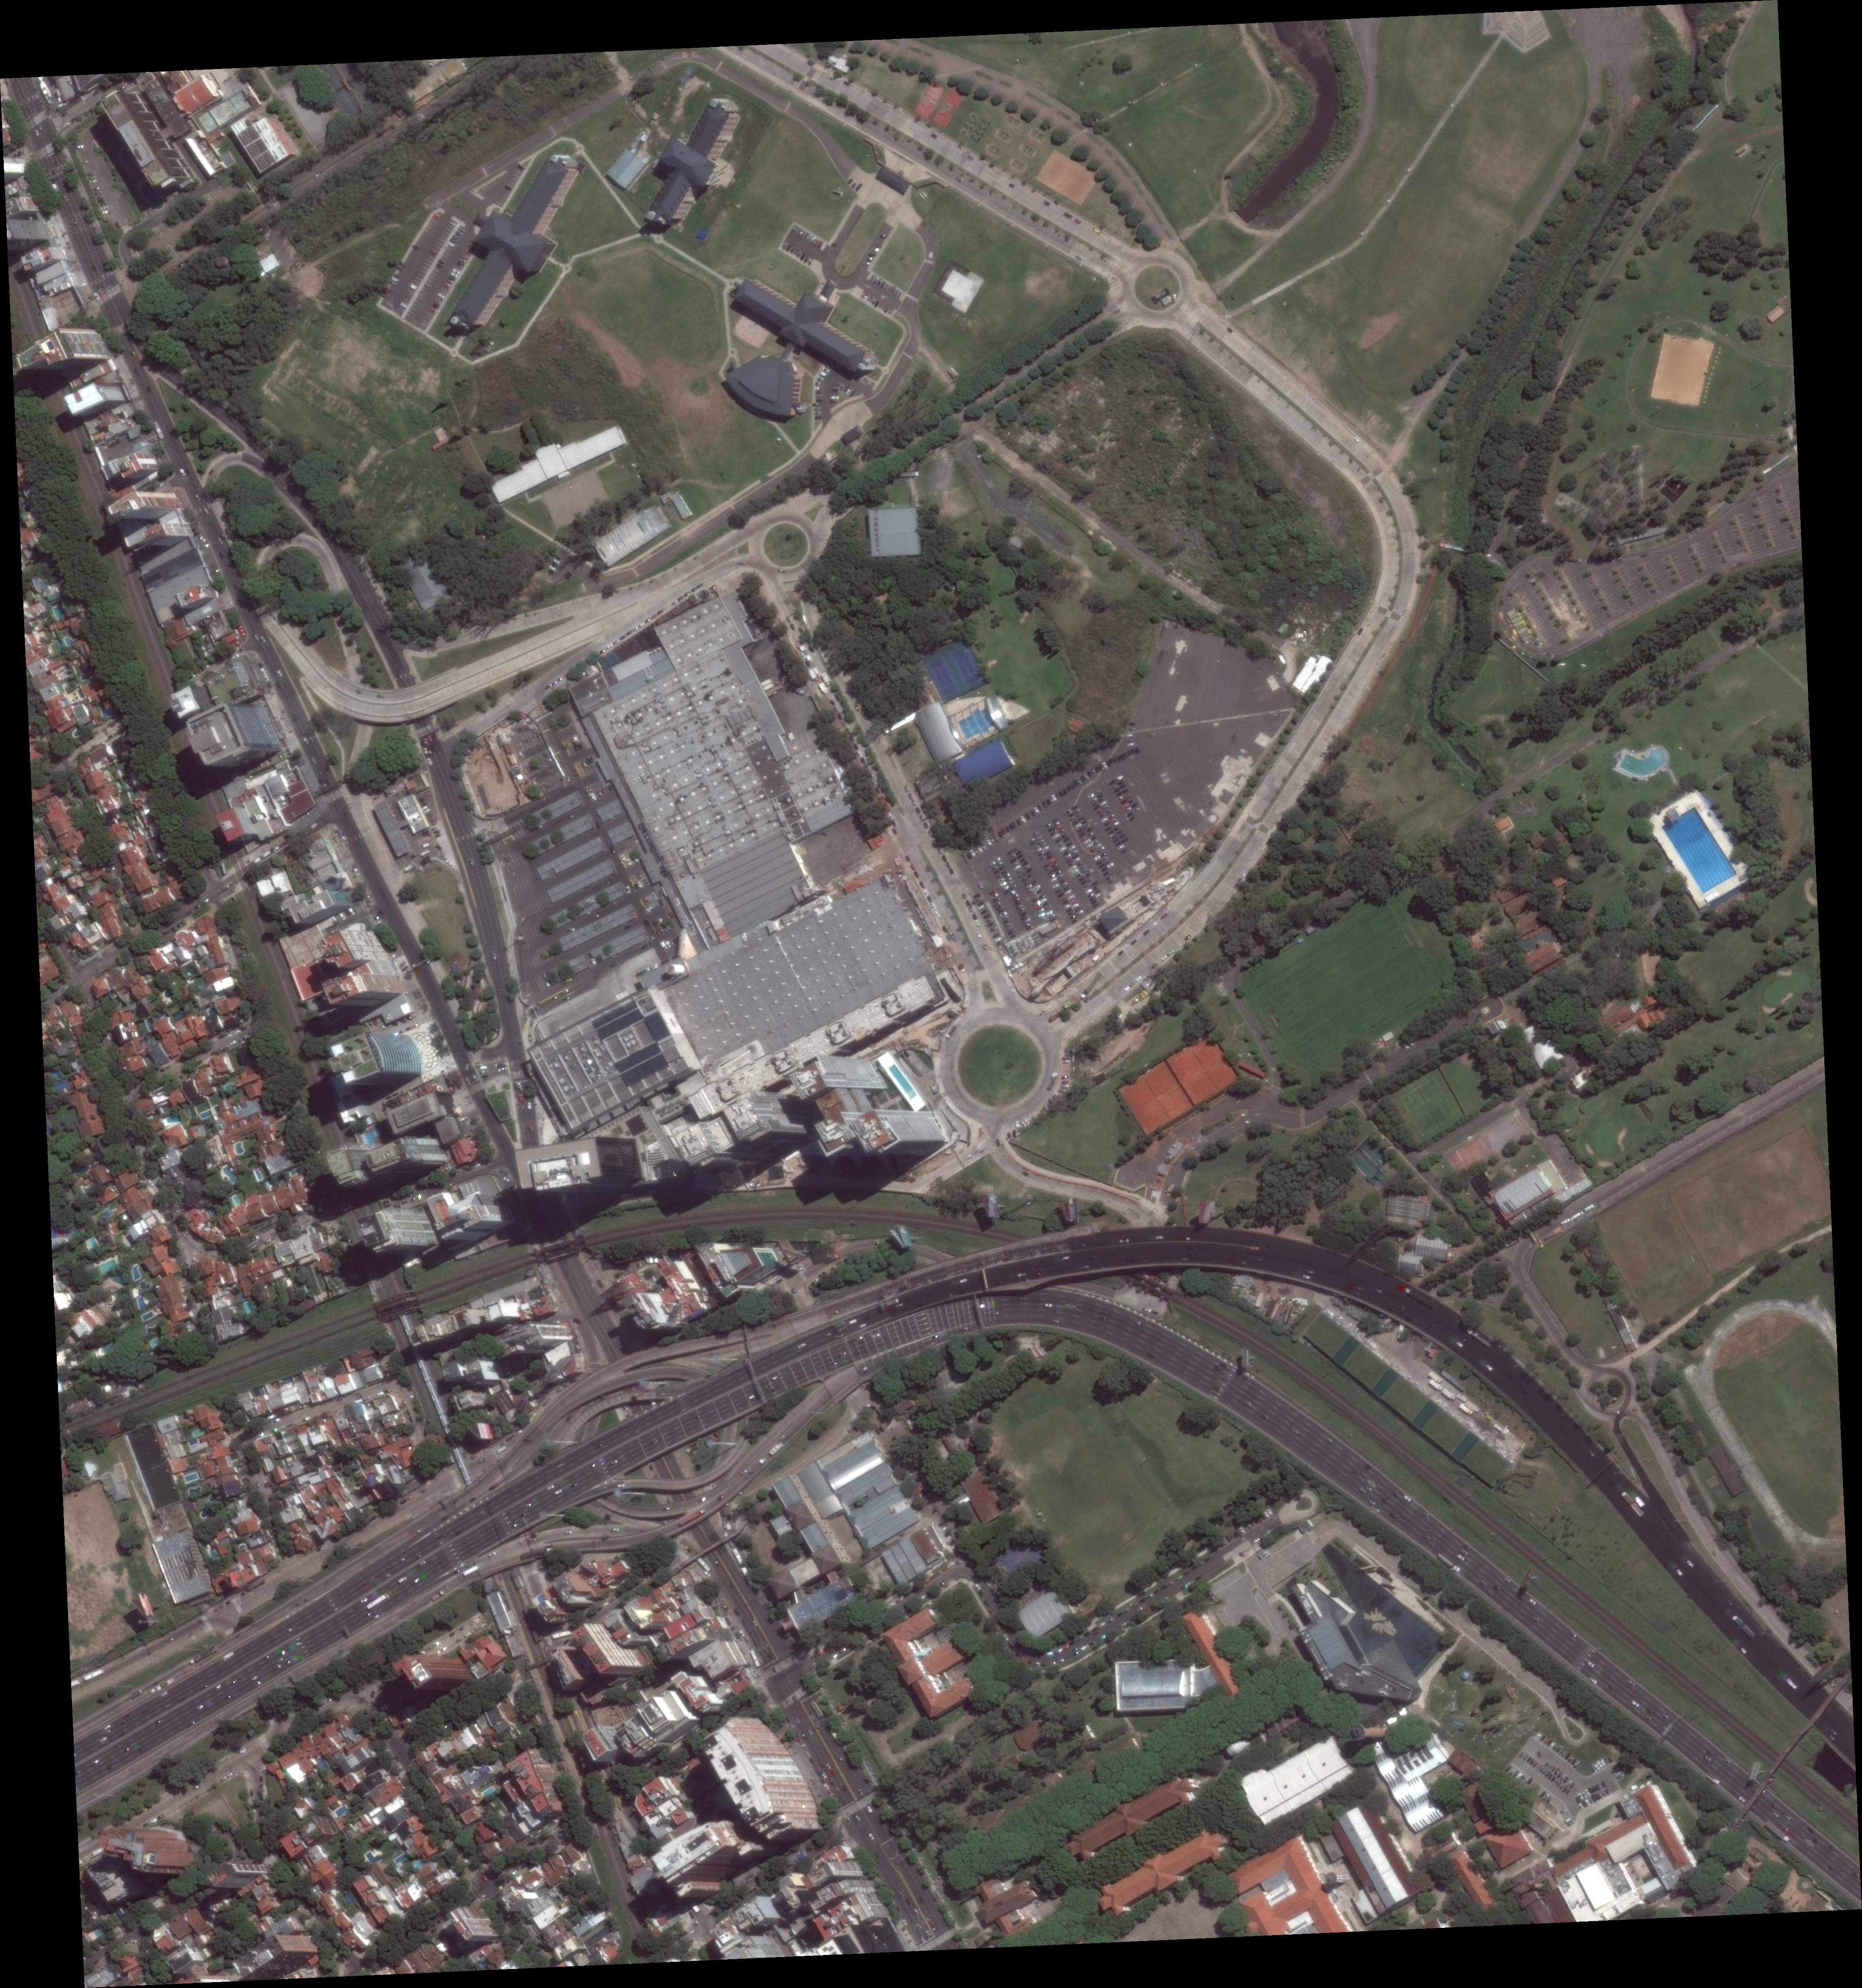bridge: (1734, 1673, 1851, 1823), (675, 1533, 737, 1573), (532, 1246, 586, 1263), (376, 1298, 420, 1319), (530, 1239, 583, 1256), (374, 1291, 416, 1312), (527, 1659, 548, 1669)
roundabout: (959, 1022, 1043, 1106), (1134, 264, 1181, 311), (765, 521, 808, 569), (1475, 1258, 1515, 1298), (1594, 1376, 1627, 1411), (1482, 1008, 1489, 1015), (656, 236, 661, 241), (563, 266, 569, 271), (577, 145, 583, 150), (451, 350, 457, 355), (730, 282, 733, 285), (731, 350, 735, 354)
soccer ball field: (1248, 889, 1445, 1069)
storage tank: (1459, 1671, 1470, 1680)
swimming pool: (1647, 789, 1755, 908), (1610, 749, 1675, 780), (222, 1164, 240, 1188), (98, 1258, 119, 1277), (96, 1206, 115, 1225), (479, 1783, 497, 1802), (332, 1802, 350, 1820), (394, 1852, 411, 1869), (164, 1111, 184, 1127), (51, 602, 66, 621), (208, 1543, 222, 1563), (140, 1309, 157, 1323), (86, 1236, 100, 1253), (233, 1139, 247, 1157), (187, 1484, 205, 1498), (131, 1263, 143, 1283), (364, 1850, 378, 1865), (100, 1342, 115, 1356), (411, 1857, 427, 1871), (136, 1295, 149, 1312), (63, 635, 80, 647), (147, 1323, 161, 1337), (138, 1279, 152, 1293), (343, 1892, 357, 1906), (252, 1167, 264, 1183), (101, 707, 117, 719), (184, 1472, 199, 1484), (145, 1017, 156, 1034), (149, 1337, 163, 1349), (199, 1109, 213, 1122), (72, 726, 84, 740), (243, 1300, 254, 1316), (224, 1081, 236, 1094), (199, 1508, 212, 1521), (231, 1193, 242, 1207), (187, 1437, 201, 1447), (192, 1428, 205, 1438)
tennis court: (1414, 1101, 1456, 1136), (1402, 1078, 1442, 1113), (950, 646, 982, 688), (927, 656, 959, 698)
